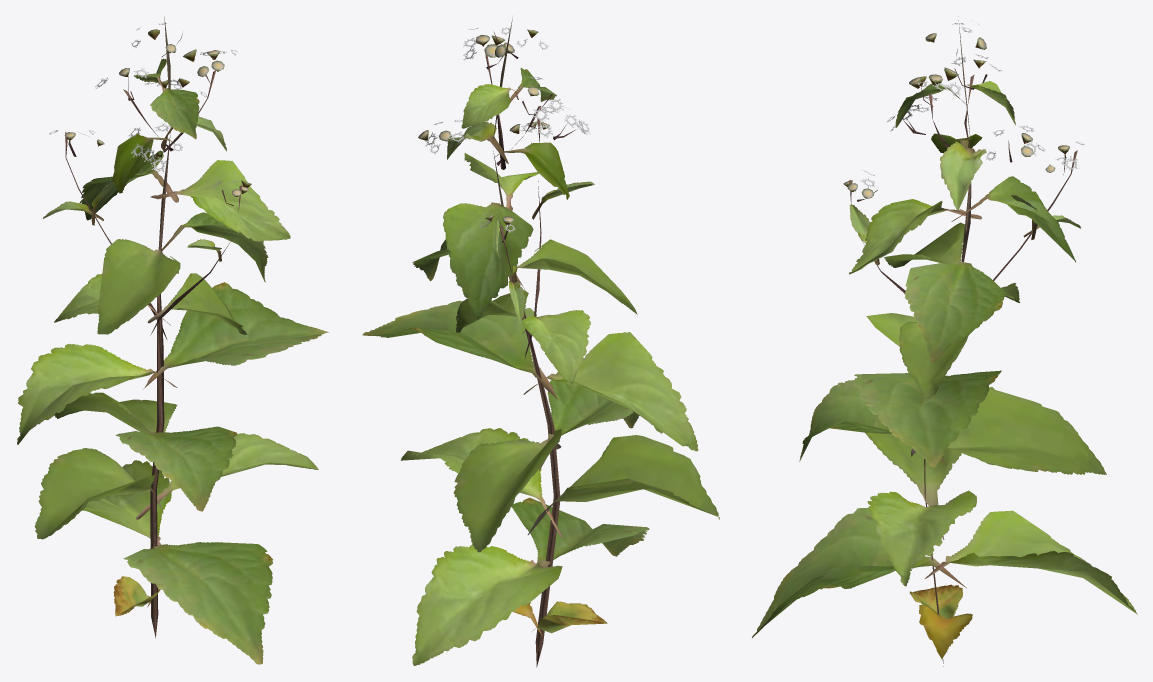
3 views of the same model, side by side, from view 1: azimuth 30°, elevation 25°; view 2: azimuth 150°, elevation 25°; view 3: azimuth 270°, elevation 25° (orthographic). The views are drawn at different scales.
Parts seen in each view (by area): view 1: shrub_01__a_lod1; view 2: shrub_01__a_lod1; view 3: shrub_01__a_lod1.
Boxes of the visible parts, <box> form: shrub_01__a_lod1: <box>17,16,329,664</box>; shrub_01__a_lod1: <box>362,18,719,667</box>; shrub_01__a_lod1: <box>752,16,1137,666</box>.
Size of the model in its own units: 0.1954 by 0.3627 by 0.1932.
Materials: 1 (1 with a texture image).
